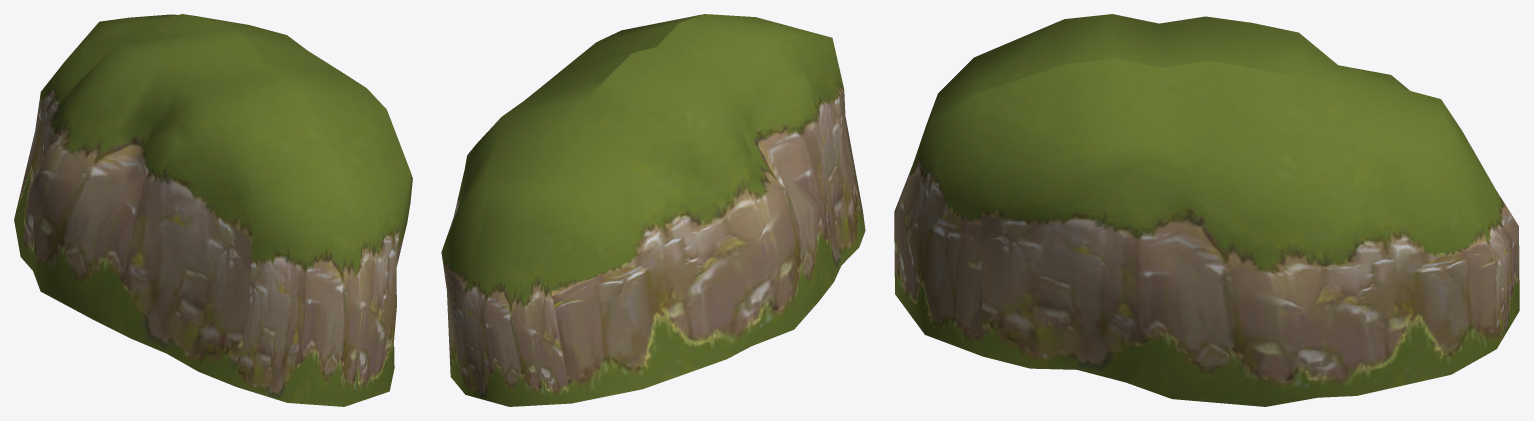
The model's file is gaoyuan_bianyuan_04 (13).fbx.
3 views of the same model, side by side, from view 1: azimuth 30°, elevation 25°; view 2: azimuth 150°, elevation 25°; view 3: azimuth 270°, elevation 25° (orthographic). The views are drawn at different scales.
Visible parts, largest first — view 1: gaoyuan_bianyuan_04 (13); view 2: gaoyuan_bianyuan_04 (13); view 3: gaoyuan_bianyuan_04 (13).
Part boxes in pixels (<box>): gaoyuan_bianyuan_04 (13): <box>14,14,412,406</box>; gaoyuan_bianyuan_04 (13): <box>441,14,865,406</box>; gaoyuan_bianyuan_04 (13): <box>894,14,1519,406</box>.
Size of the model in its own units: 1.39 by 1.13 by 2.23.
